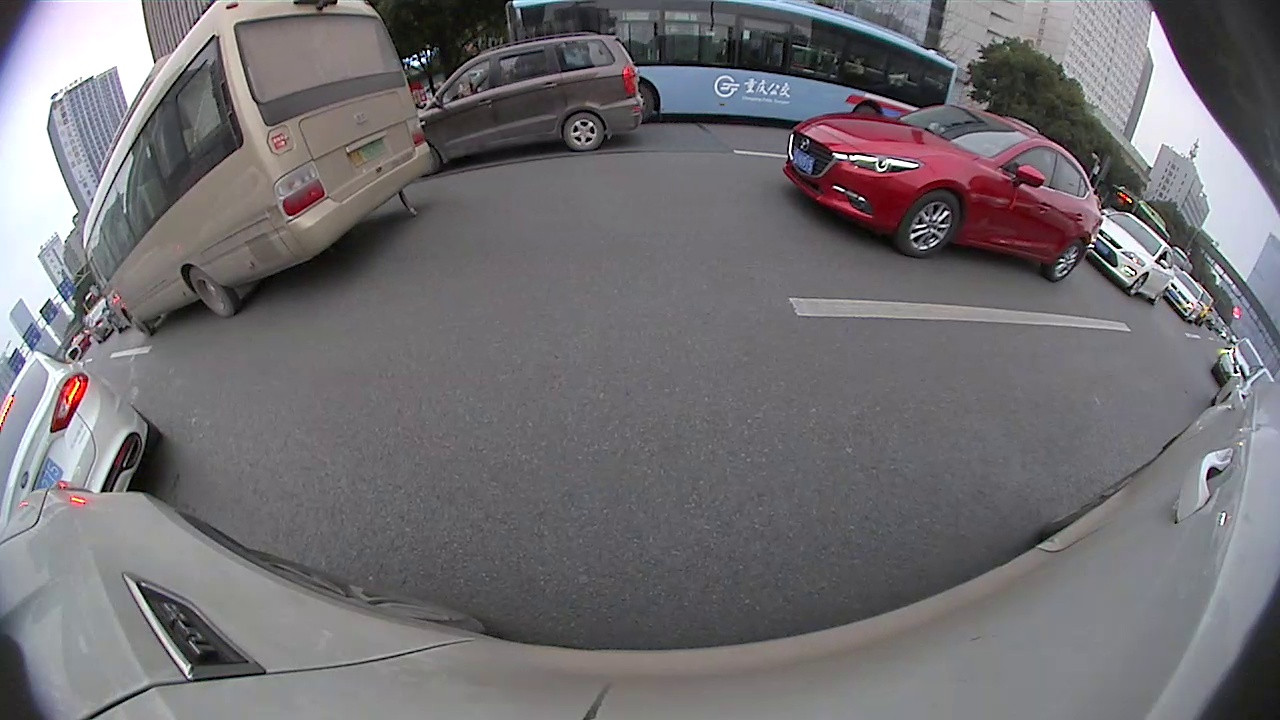bus: (80, 2, 433, 337), (500, 2, 955, 153)
car: (783, 108, 1099, 284), (1, 348, 161, 545), (419, 33, 635, 173), (1078, 214, 1173, 305)
front: (897, 186, 964, 260), (123, 307, 151, 341), (1127, 273, 1148, 296)
rear: (187, 267, 237, 319), (562, 111, 605, 153), (1050, 239, 1086, 283)
